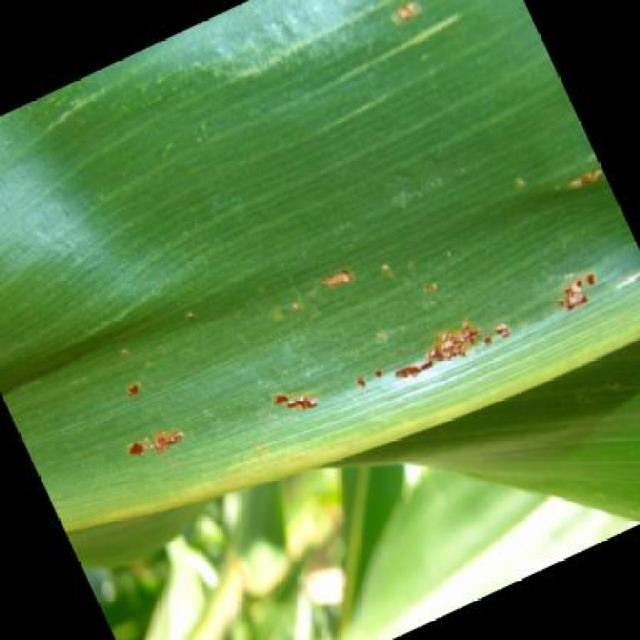Corn_Rust: (80, 204, 605, 538)
